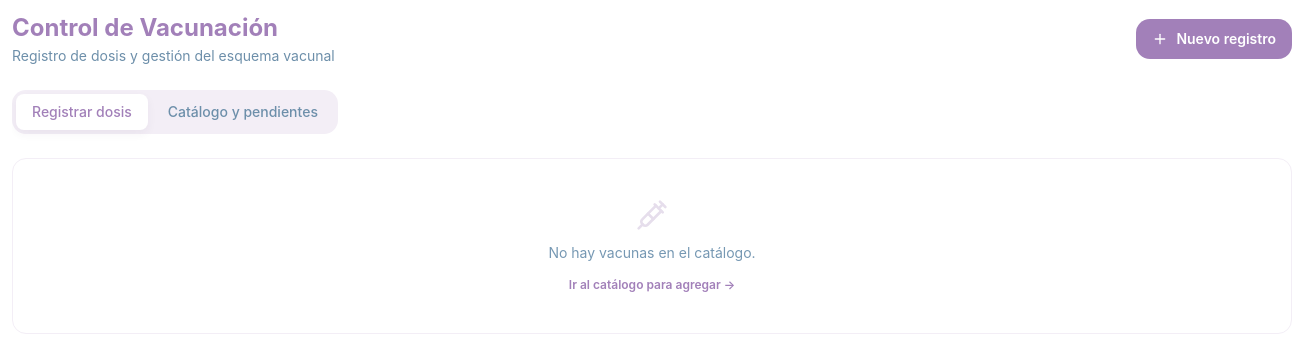
it: VaccinationView – pestaña "Registrar dosis" › con catálogo vacío ofrece ir a la pestaña del catálogo
Expected: the heading "Control de Vacunación" is shown, [12,13,278,42]
Expected: the text "No hay vacunas en el catálogo." is shown, [548,244,756,261]
Click the button "Ir al catálogo para agregar →".
click(652, 285)  # box [569,277,735,293]
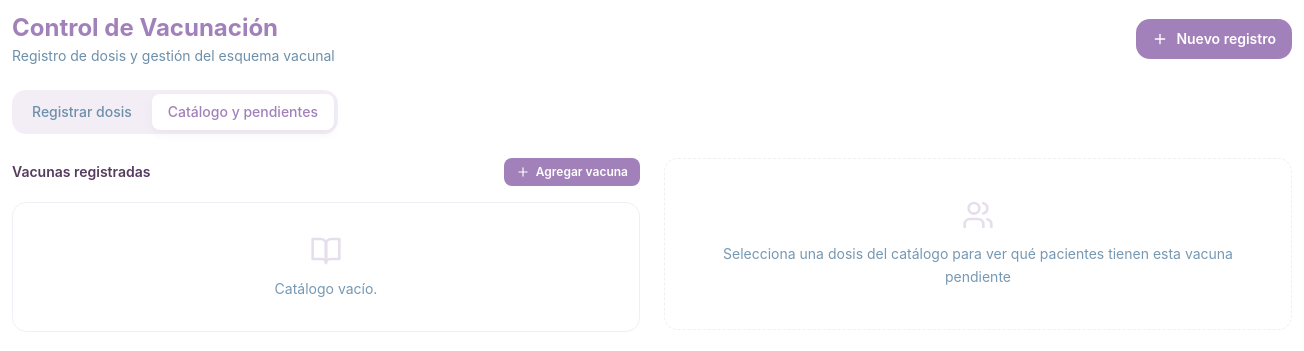
Now the text "Catálogo vacío." is shown, box [275,280,377,297]
